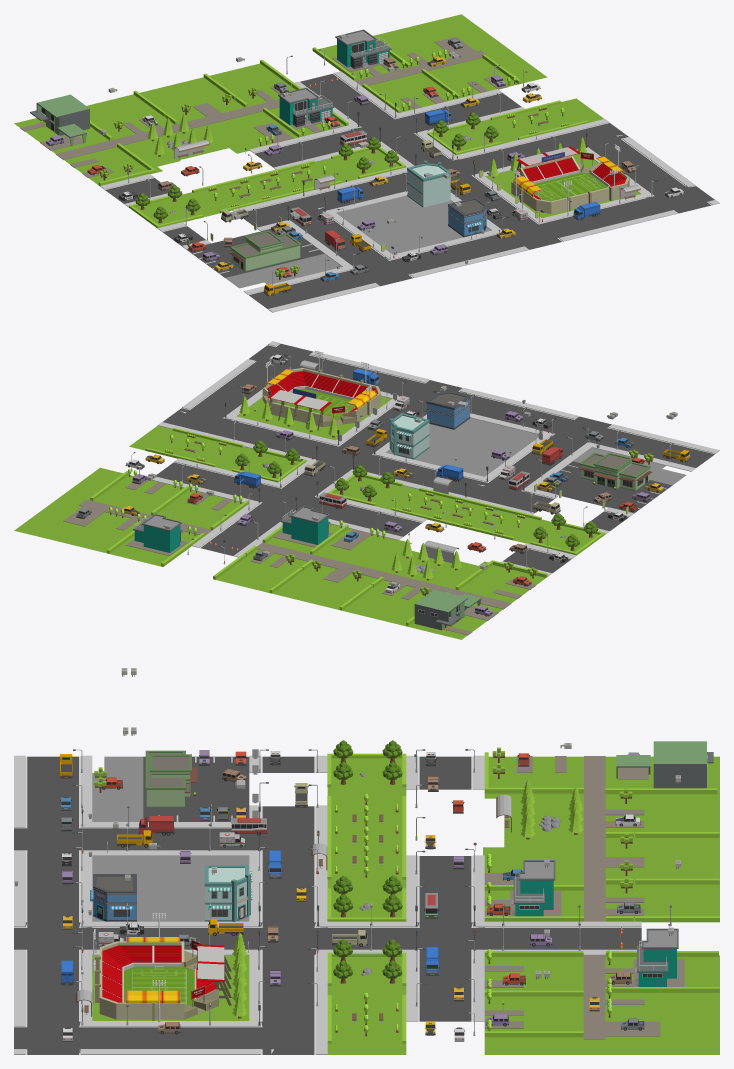
The model's file is city.mobile.glb.
3 views of the same model, one above another, from view 1: azimuth 30°, elevation 25°; view 2: azimuth 150°, elevation 25°; view 3: azimuth 270°, elevation 25° (orthographic). The views are drawn at different scales.
Visible parts, largest first — view 1: Building_Clothing.001, Cube.2127; view 2: Building_Clothing.001, Cube.2127; view 3: Building_Clothing.001, Cube.2127.
Boxes of the visible parts, bbox=[...] form: Building_Clothing.001: bbox=[14, 14, 719, 312]; Cube.2127: bbox=[118, 56, 683, 281]; Building_Clothing.001: bbox=[14, 341, 719, 639]; Cube.2127: bbox=[121, 354, 664, 593]; Building_Clothing.001: bbox=[14, 668, 719, 1054]; Cube.2127: bbox=[60, 751, 640, 1041].
Size of the model in its own units: 180 by 25.64 by 180.
Materials: 1 (1 with a texture image).
